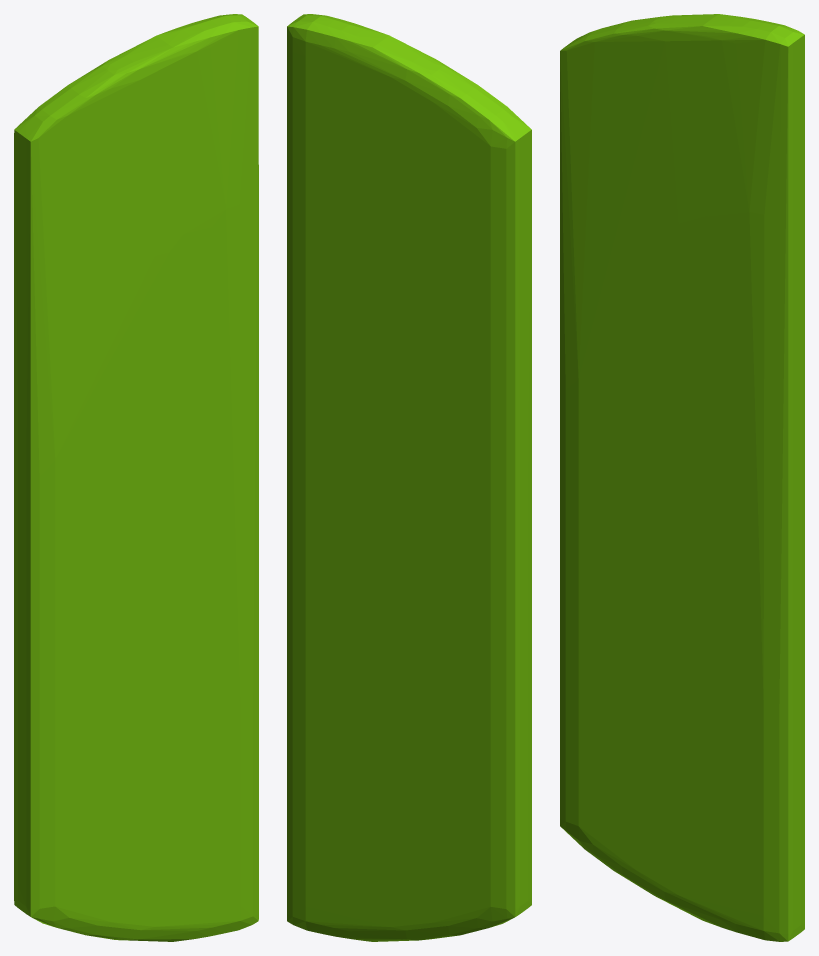
The model's file is left_forearm_0_part_4.obj.
3 views of the same model, side by side, from view 1: azimuth 30°, elevation 25°; view 2: azimuth 150°, elevation 25°; view 3: azimuth 330°, elevation 25° (orthographic).
Bounding box in the file's own units: 36.16 × 137 × 6.22.
